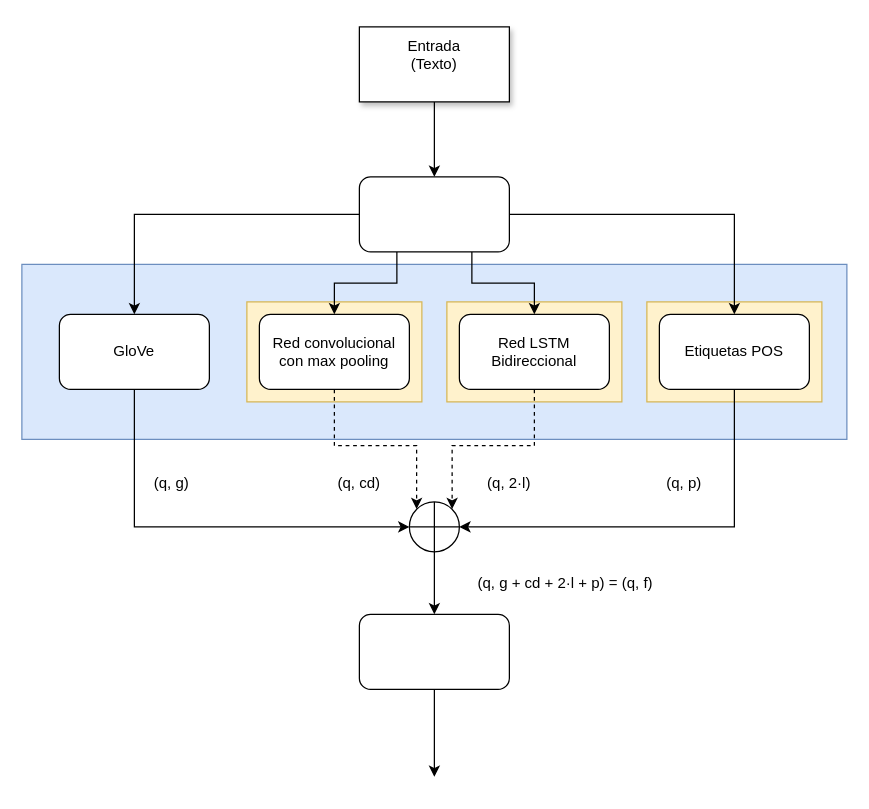
This 869x809 diagram has some shape labels left out. The shapes that lost their labels are listed below. From the top down, each one's centre as x and y in pixels, then its label:
the point at 433,214: Tokenización y procesamiento
the point at 433,651: Normalización
